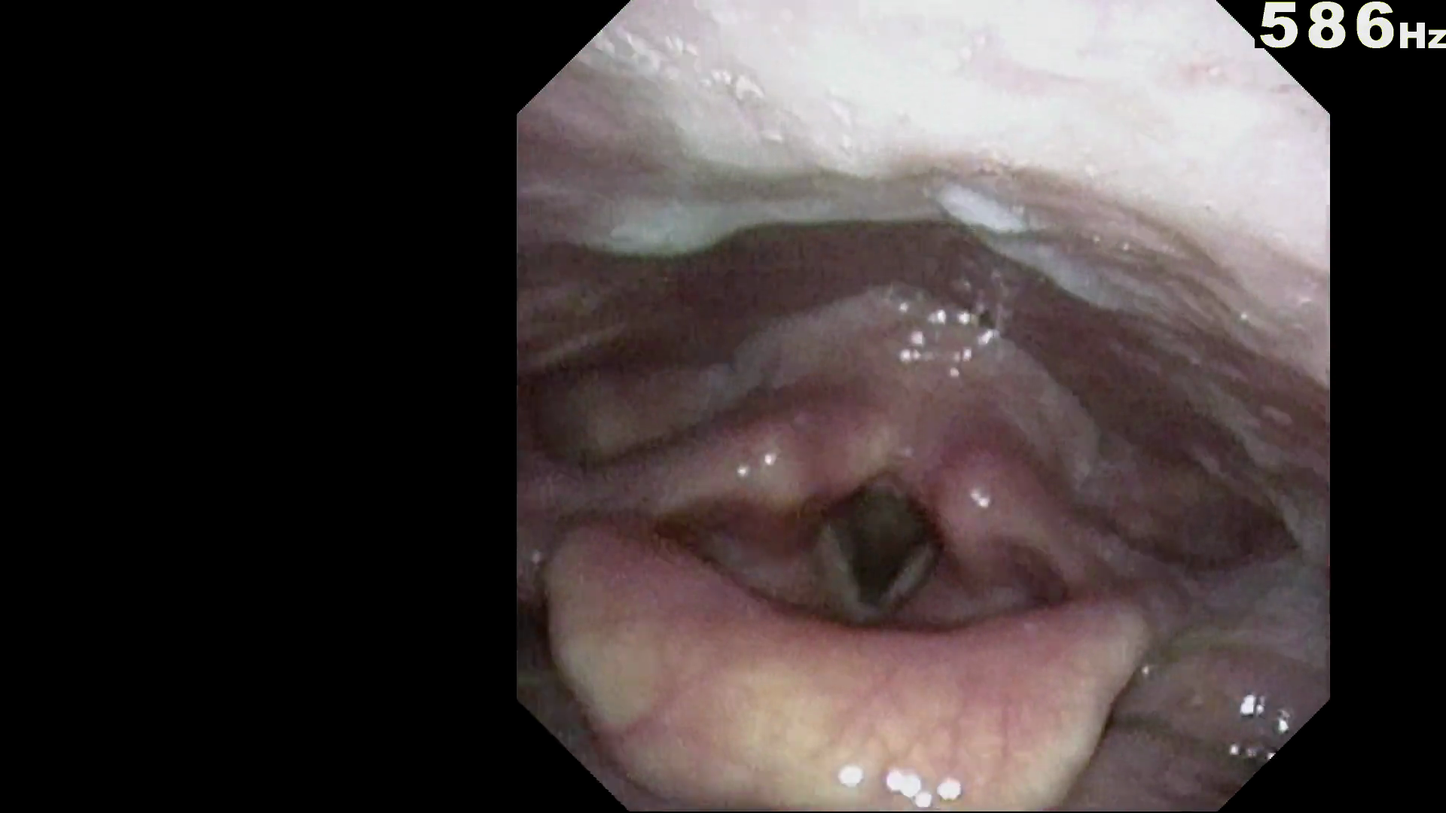epiglottis: (603, 598, 1159, 764)
trachea: (843, 472, 967, 615)
